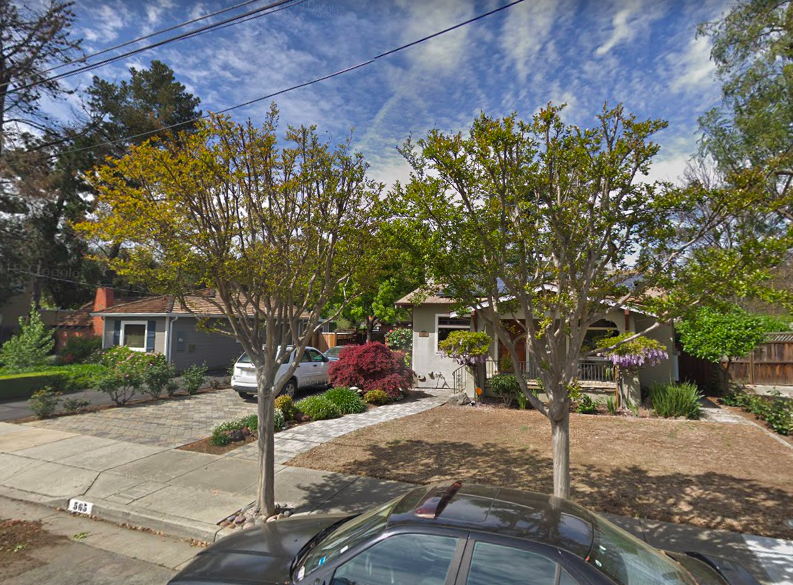tree: (338, 100, 793, 501), (66, 99, 381, 517)
